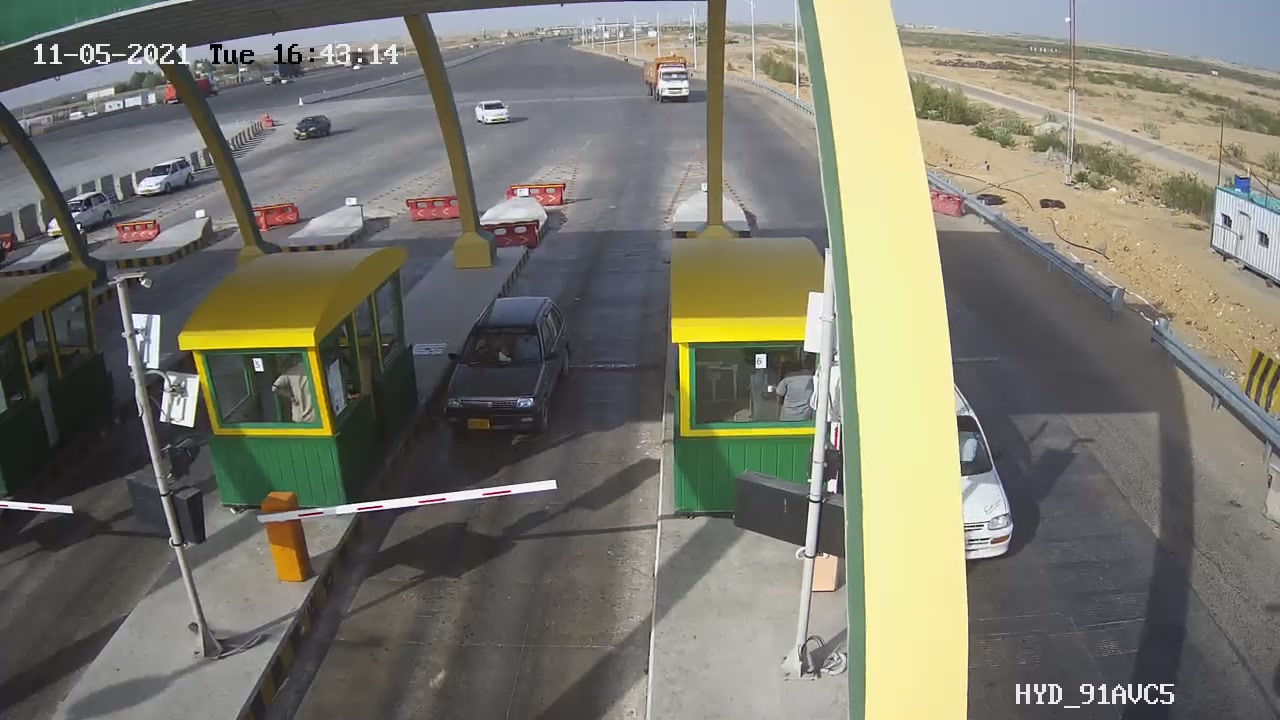F1: (415, 280, 594, 462)
